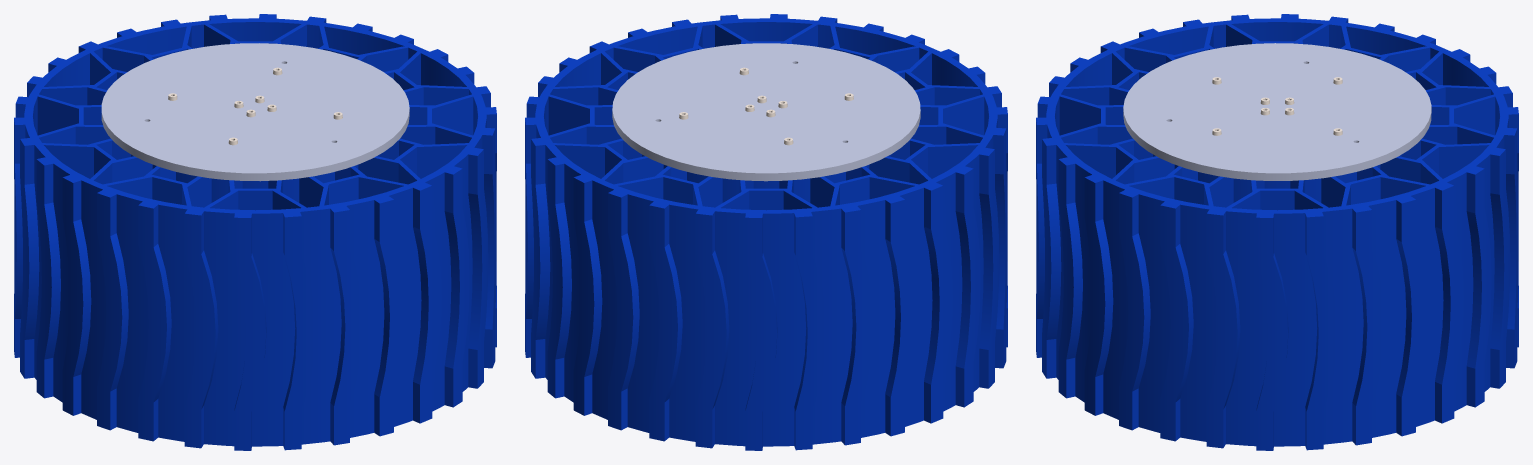
The model's file is Wheel_L.obj.
3 views of the same model, side by side, from view 1: azimuth 30°, elevation 25°; view 2: azimuth 150°, elevation 25°; view 3: azimuth 270°, elevation 25° (orthographic).
Parts seen in each view (by area): view 1: Wheel_L; view 2: Wheel_L; view 3: Wheel_L.
Part boxes in pixels (bbox=[...]): Wheel_L: bbox=[14, 14, 496, 450]; Wheel_L: bbox=[525, 14, 1007, 450]; Wheel_L: bbox=[1036, 14, 1518, 450].
Size of the model in its own units: 0.282 by 0.2161 by 0.282.
